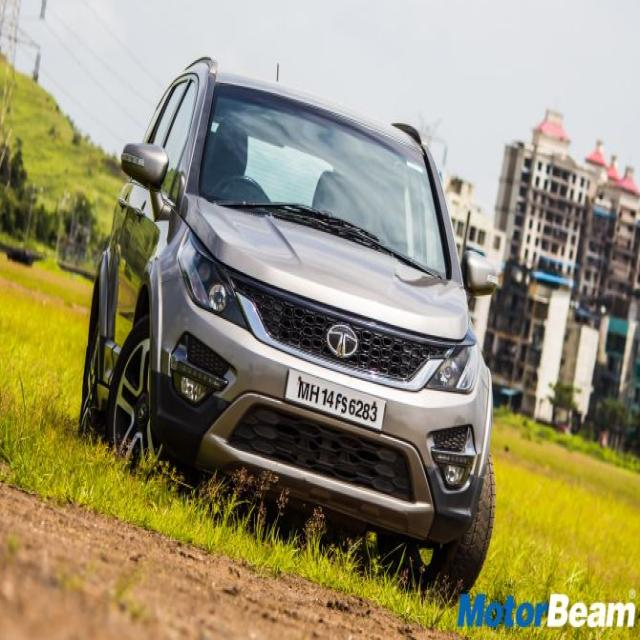Car: (74, 45, 504, 595)
